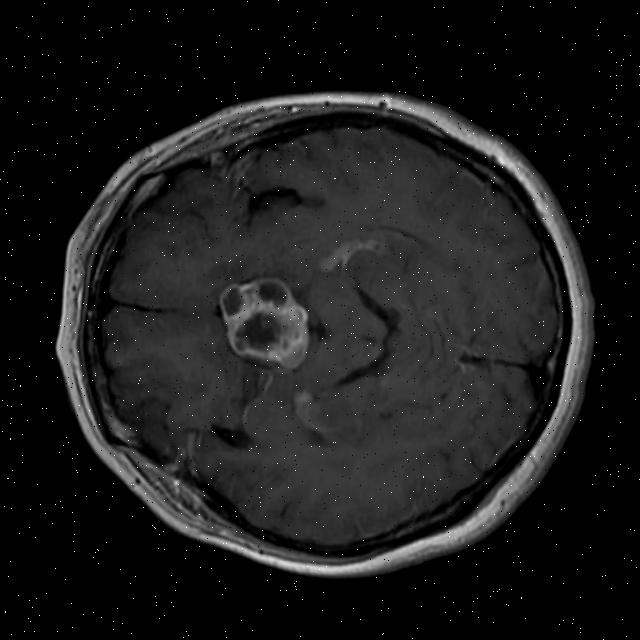Pituitary: (212, 272, 314, 370)
